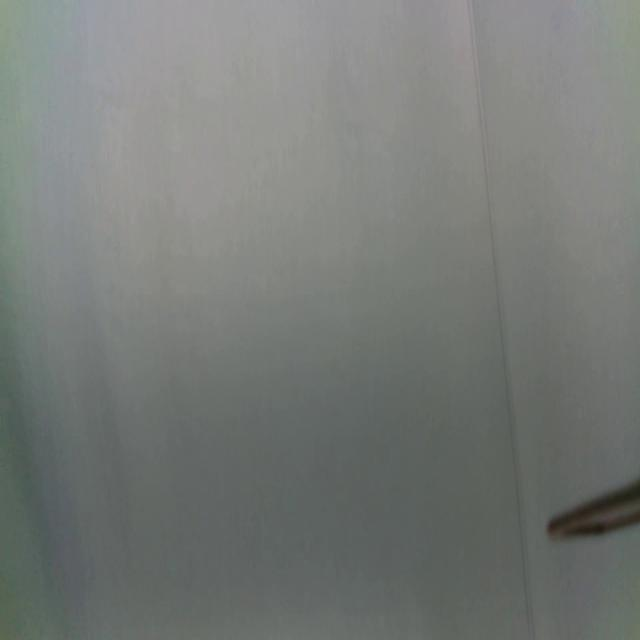crease: (468, 0, 534, 640)
